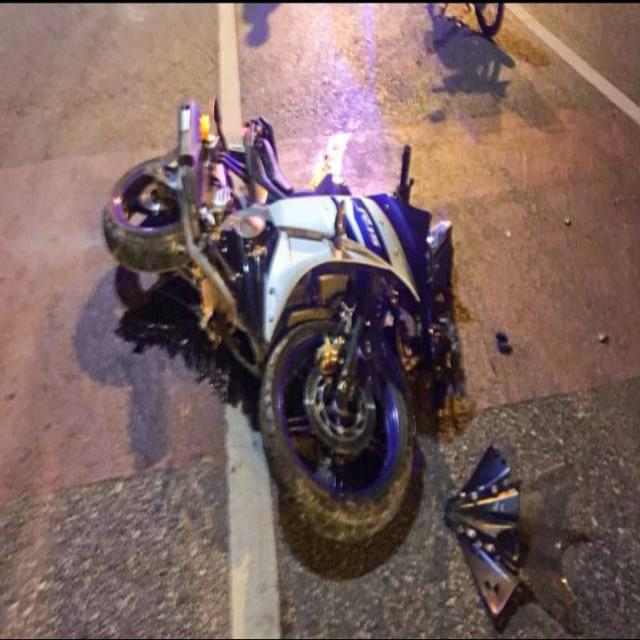accident: (105, 100, 526, 621)
